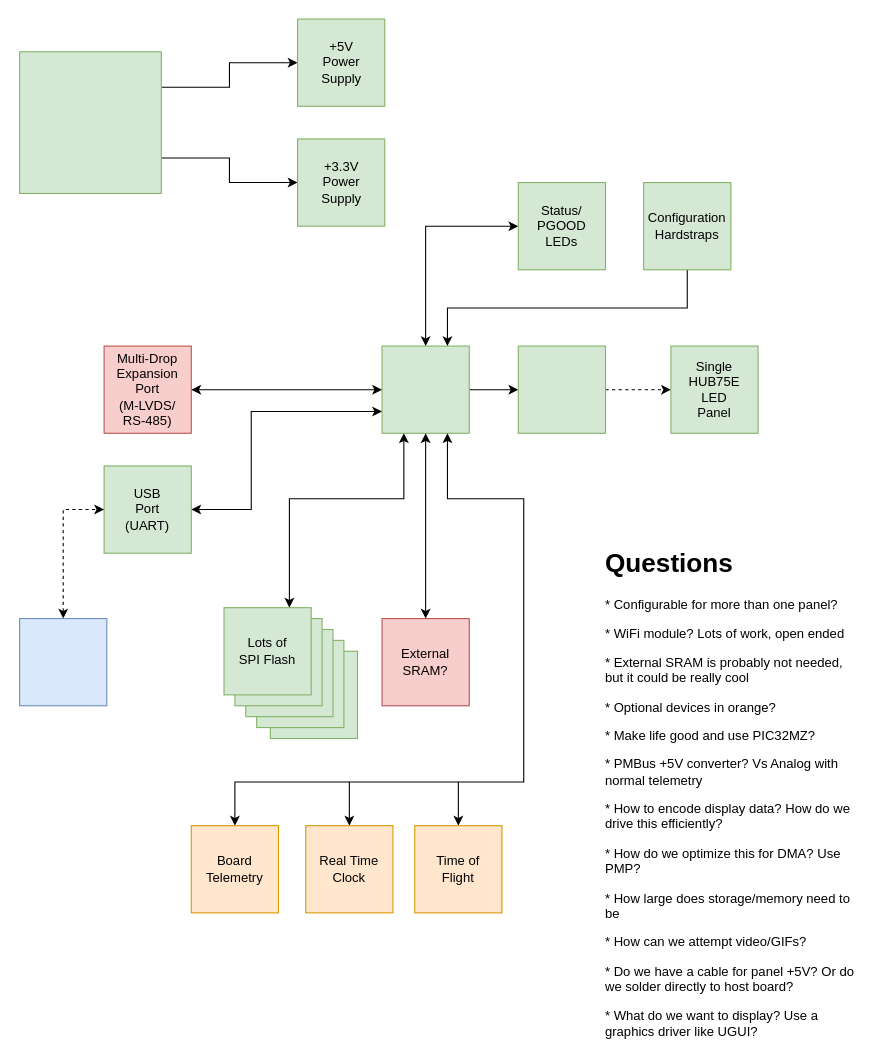
Some shapes in this 880 by 1063 pixel diagram are drawn without their labels. The shapes that lost their labels are listed below. From the top down, each one's box as (x1, y1, x2, y2) in pixels, then its label:
(19, 51, 161, 193): +12V Power Input
(381, 345, 469, 433): MCU
(517, 345, 605, 433): Level Shifters
(19, 617, 107, 706): Python Image Conversion Script
